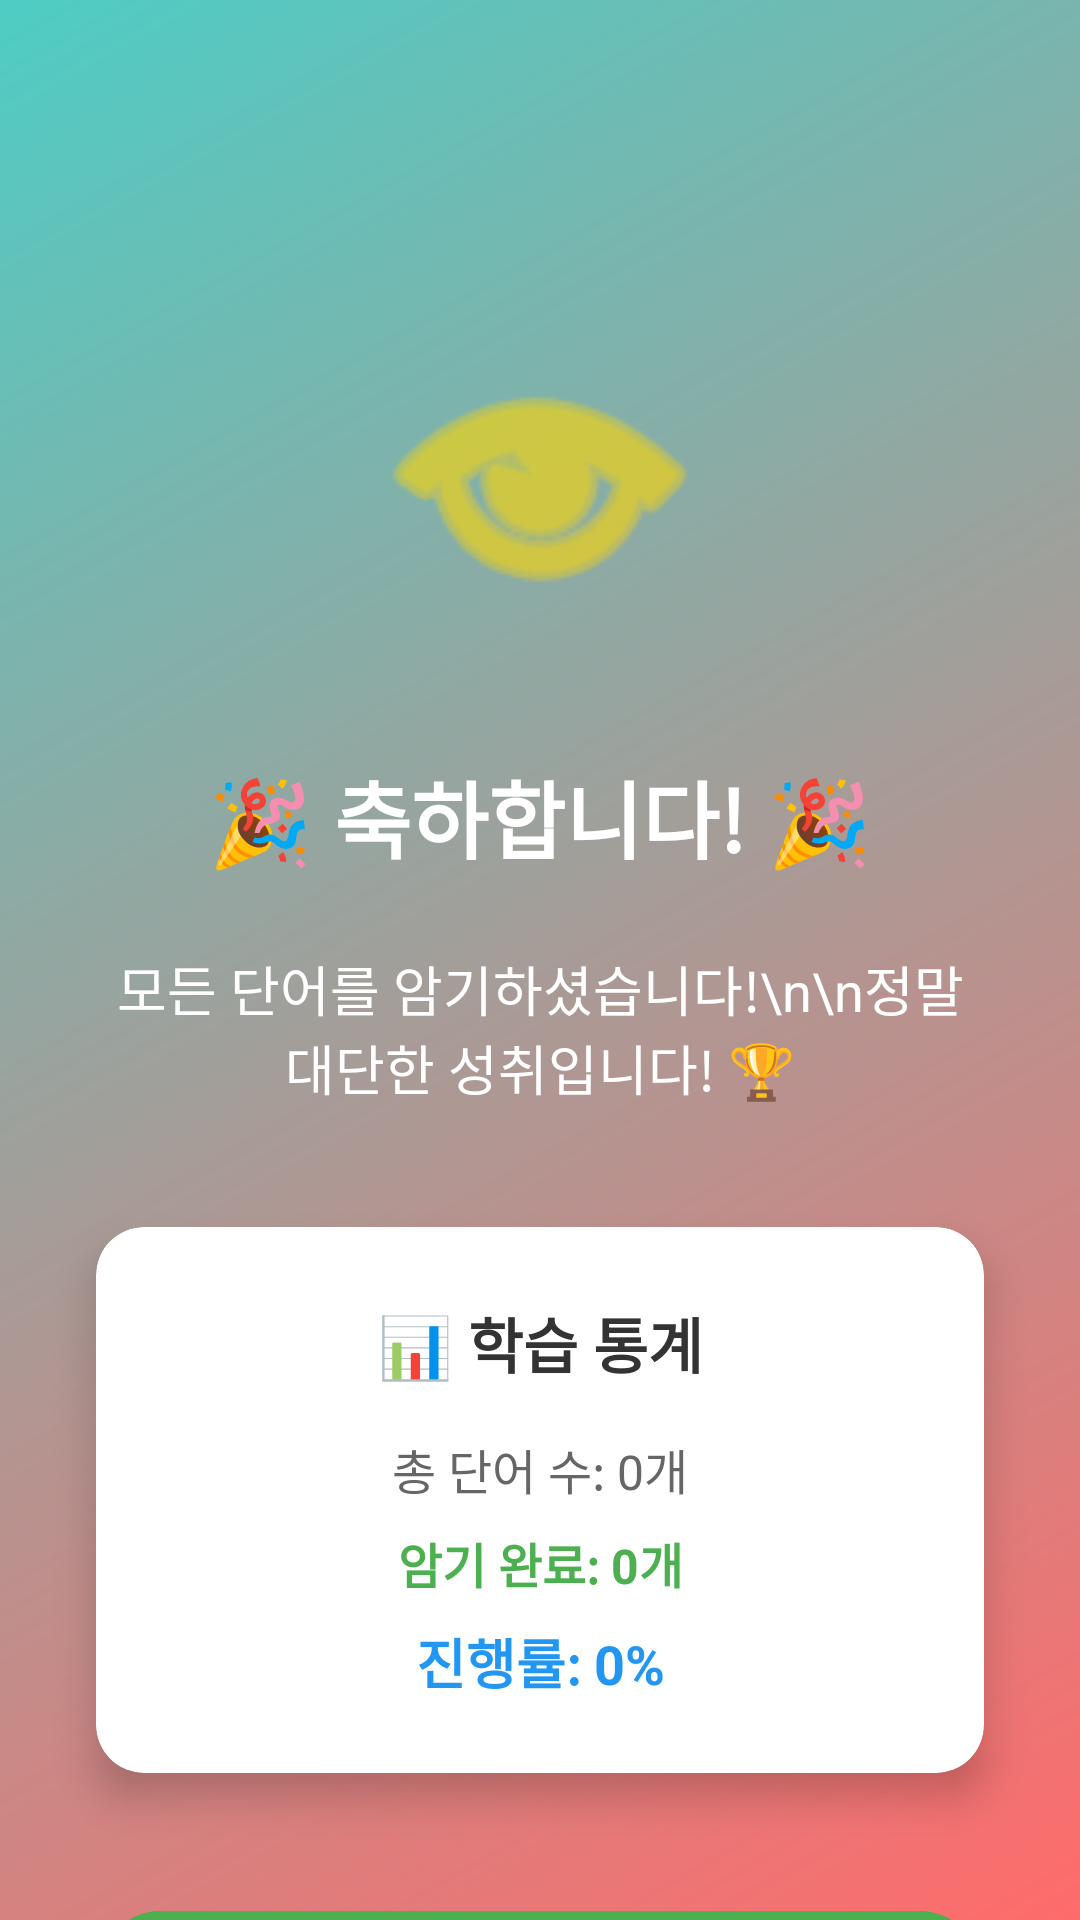

Named icons in this screenshot (1080w x 1920h) and their centers, [x,y]:
view: [540,489]
